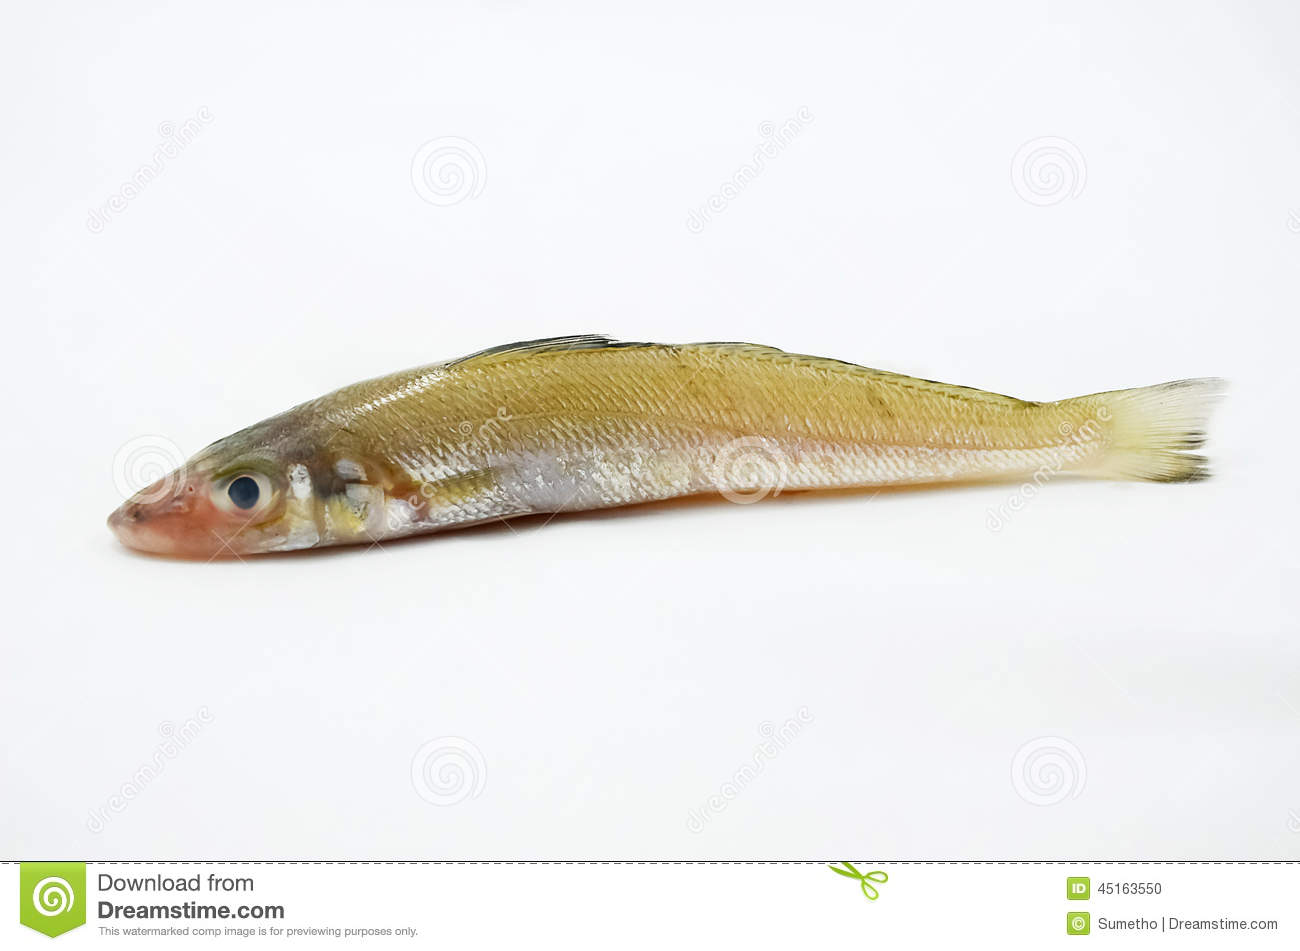kiss: (107, 317, 1232, 568)
